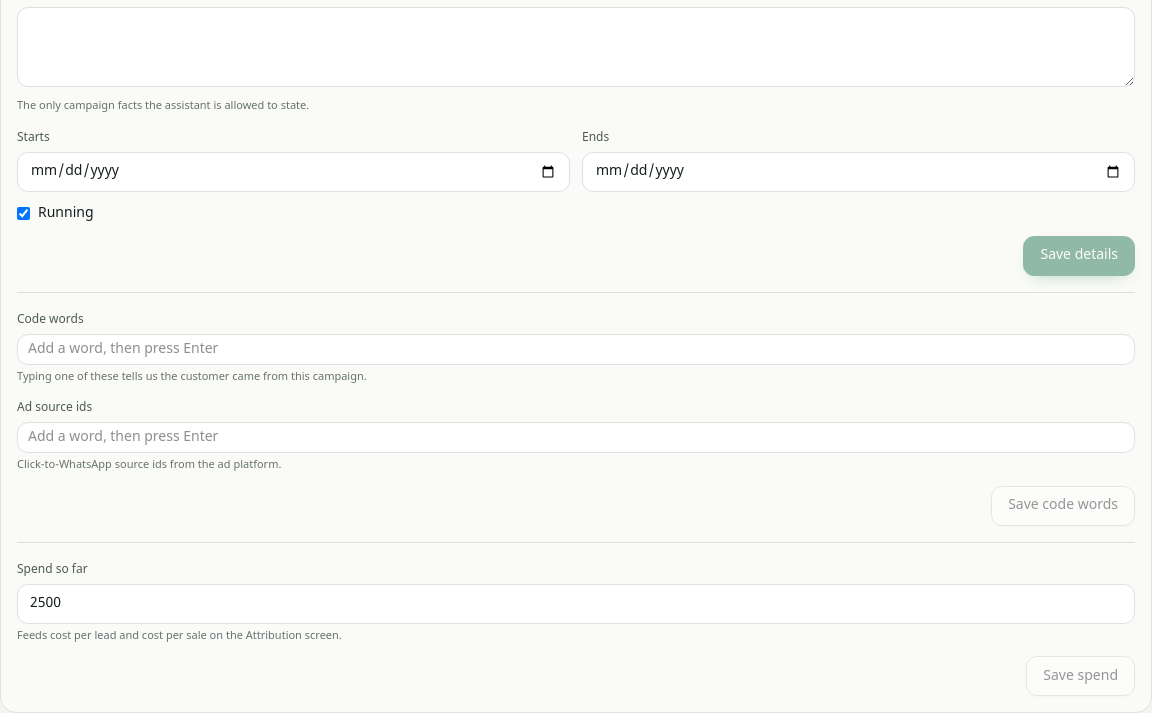
Test: the spend field › still arms Save for a real edit
(page scrolled)
Type "0" into the field labelled "Spend so far" at {"x": 576, "y": 604}, box [17,584,1135,624]
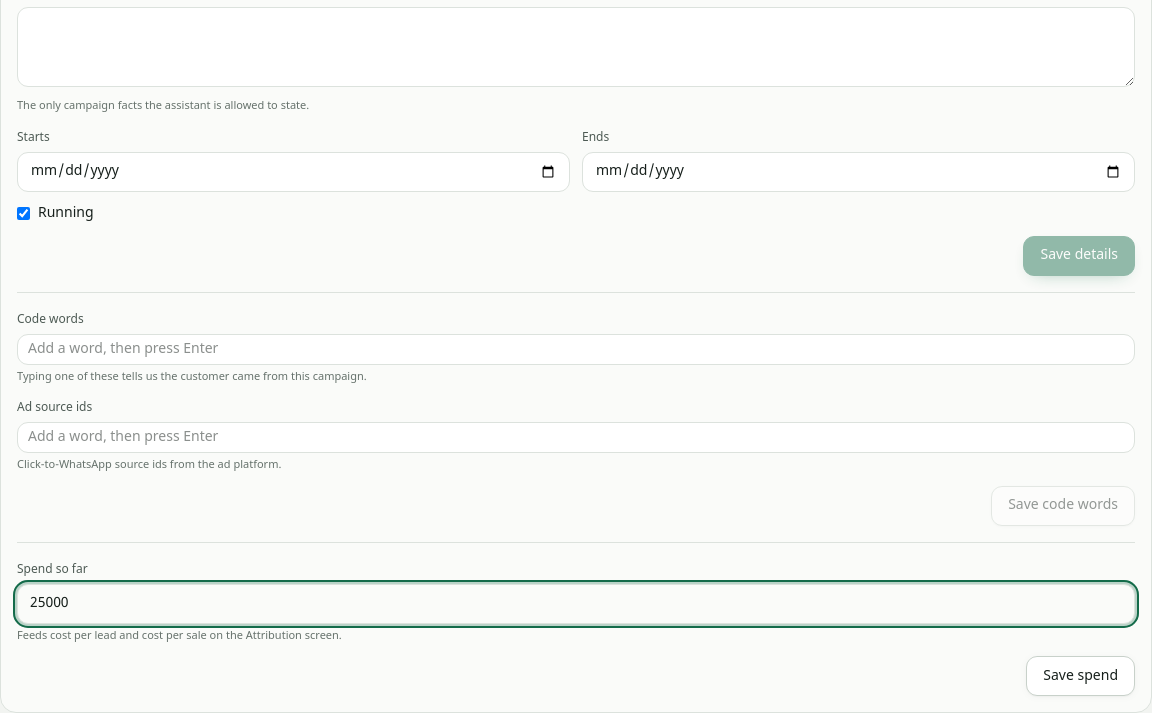
Expected: the button "Save spend" is enabled, [1026,656,1135,696]
